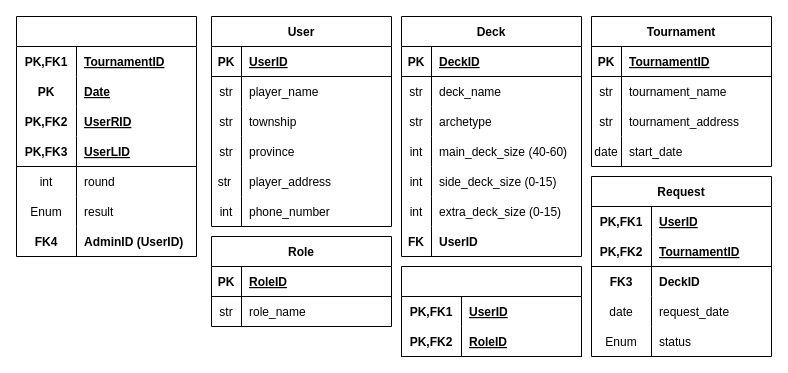
The diagram is 788 pixels wide and 373 high, and some of its shapes have lost their labels. The box of each missing label's shape, as (x1, y1, x2, y2) in pixels:
Is: (400, 266, 582, 356)
Play: (16, 16, 196, 256)
